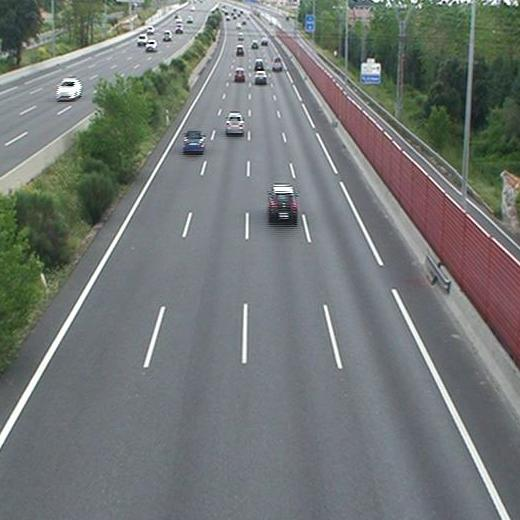car: (269, 186, 297, 220), (184, 130, 204, 151), (226, 112, 244, 133), (234, 68, 245, 82), (254, 71, 266, 82), (273, 58, 282, 70), (234, 46, 245, 55), (253, 61, 263, 70)
